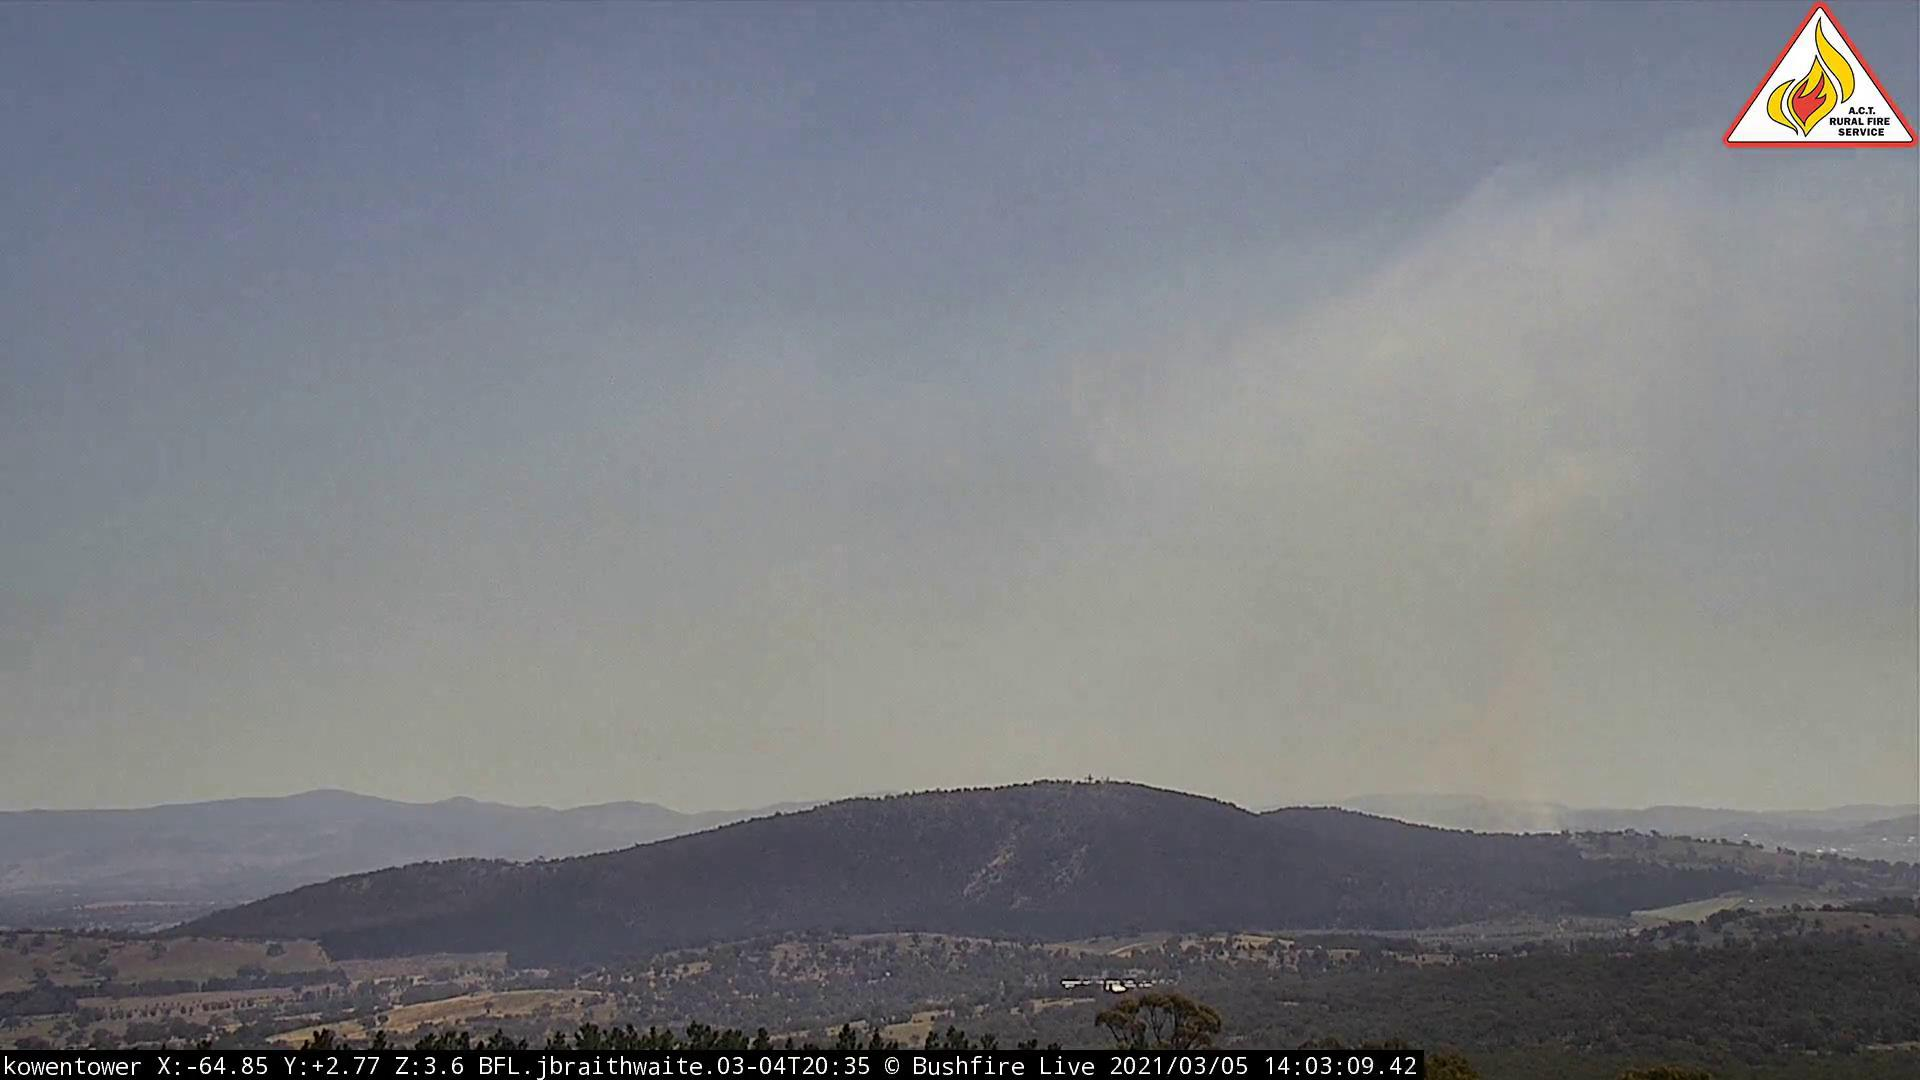Smoke: (1379, 411, 1698, 841)
